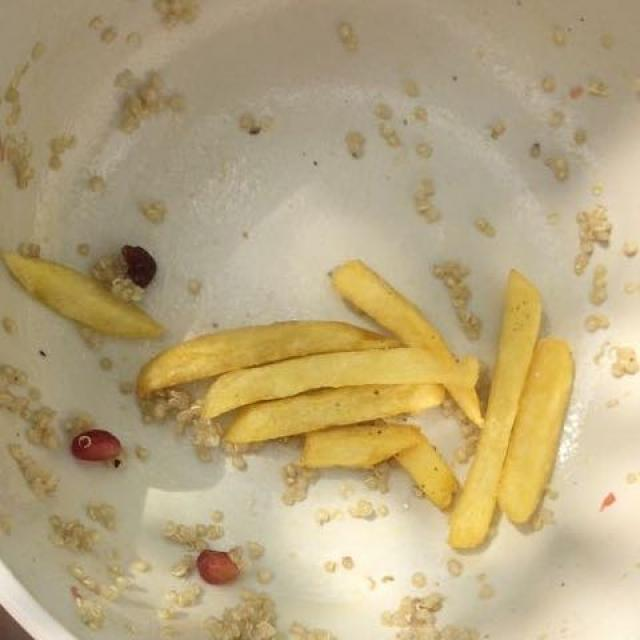chips-french-fries: (142, 261, 570, 547)
